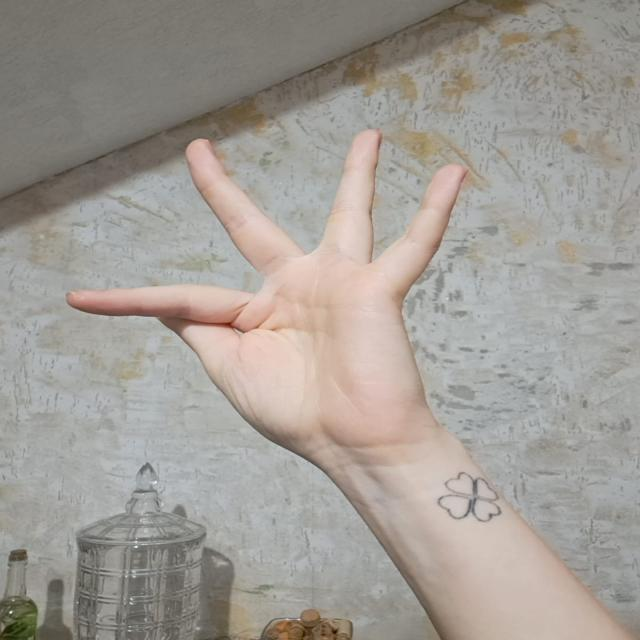F: (58, 128, 530, 498)
